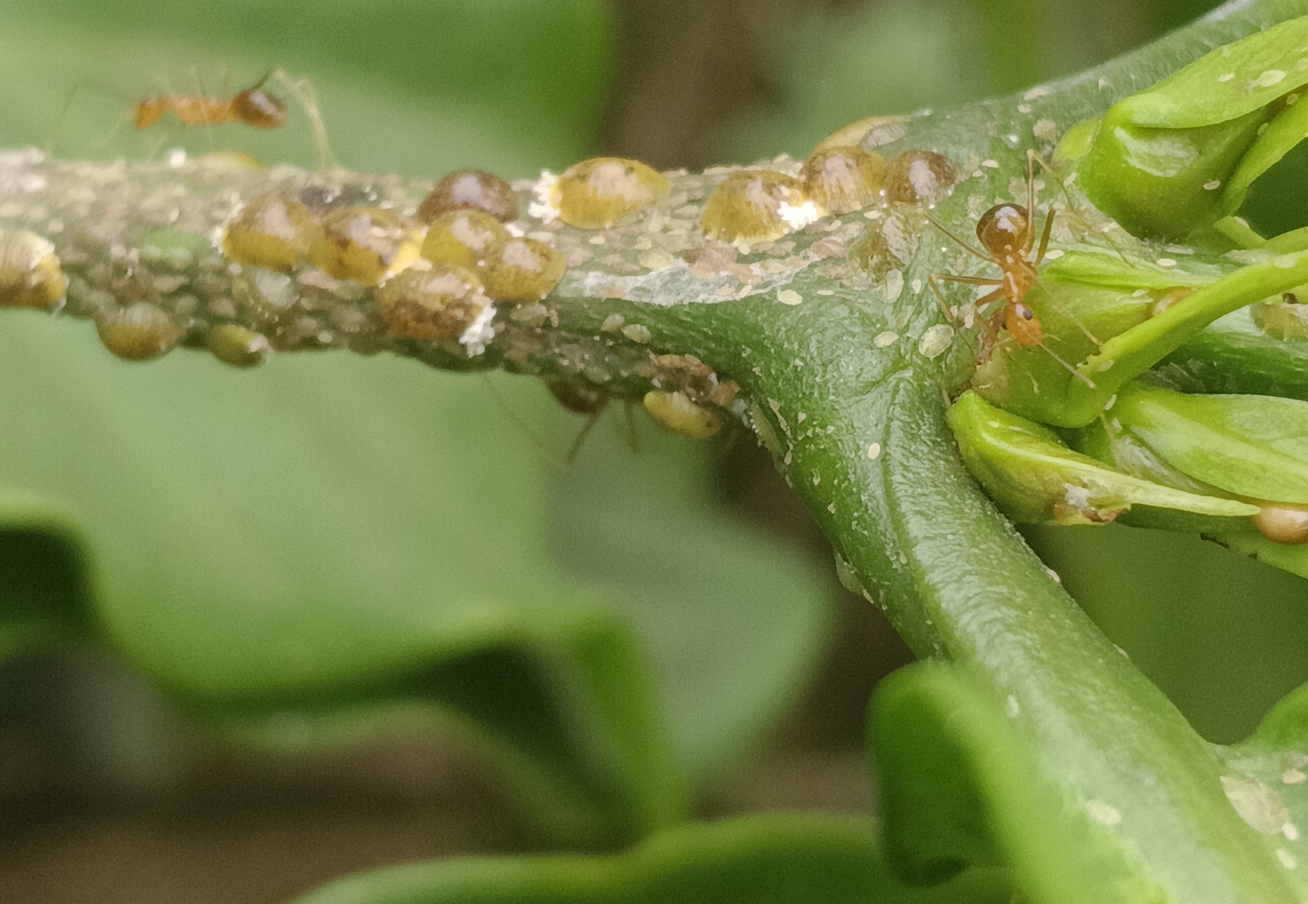Scale_Insect: (372, 260, 486, 344), (701, 172, 816, 244), (554, 159, 670, 230), (306, 206, 412, 282), (412, 166, 519, 223), (885, 147, 959, 209)
